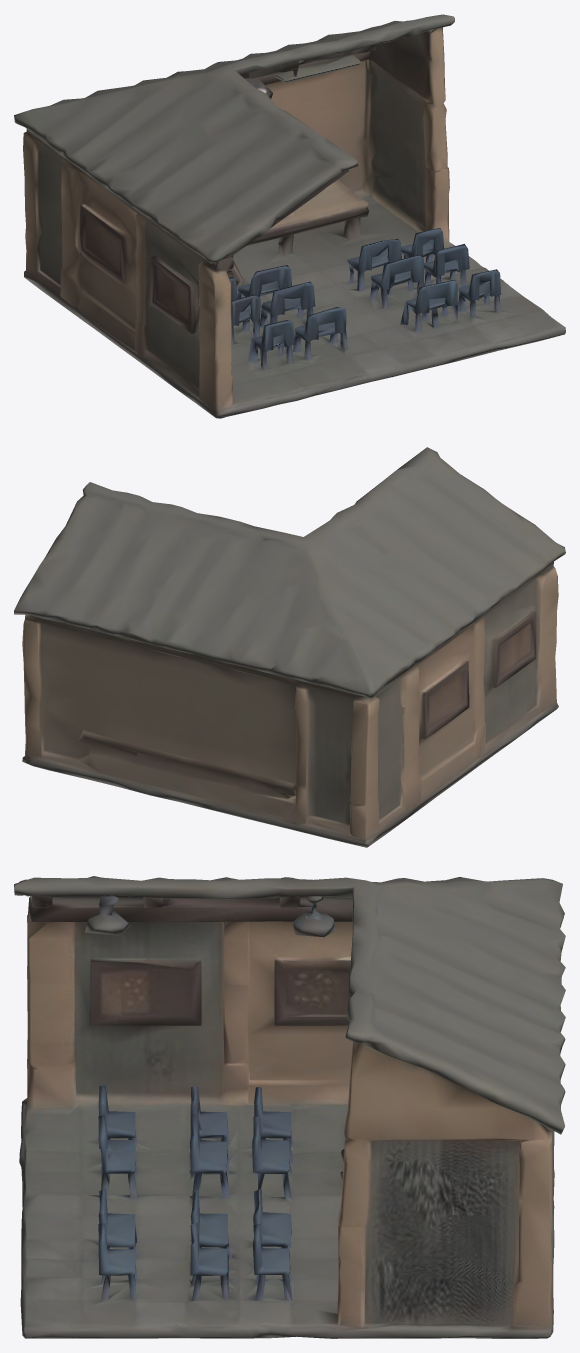
The model's file is community_hall_interior.glb.
3 views of the same model, one above another, from view 1: azimuth 30°, elevation 25°; view 2: azimuth 150°, elevation 25°; view 3: azimuth 270°, elevation 25° (orthographic). The views are drawn at different scales.
Visible parts, largest first — view 1: tripo_node_b7da6833-a34c-4cc8-9fb1-f33245d9ace6; view 2: tripo_node_b7da6833-a34c-4cc8-9fb1-f33245d9ace6; view 3: tripo_node_b7da6833-a34c-4cc8-9fb1-f33245d9ace6.
Part boxes in pixels (x1,y1,x2,y2): tripo_node_b7da6833-a34c-4cc8-9fb1-f33245d9ace6: [14, 14, 565, 418]; tripo_node_b7da6833-a34c-4cc8-9fb1-f33245d9ace6: [14, 447, 565, 847]; tripo_node_b7da6833-a34c-4cc8-9fb1-f33245d9ace6: [14, 876, 565, 1338].
Bounding box in the file's own units: 1 × 0.595 × 0.9518.
Materials: 1 (1 with a texture image).
